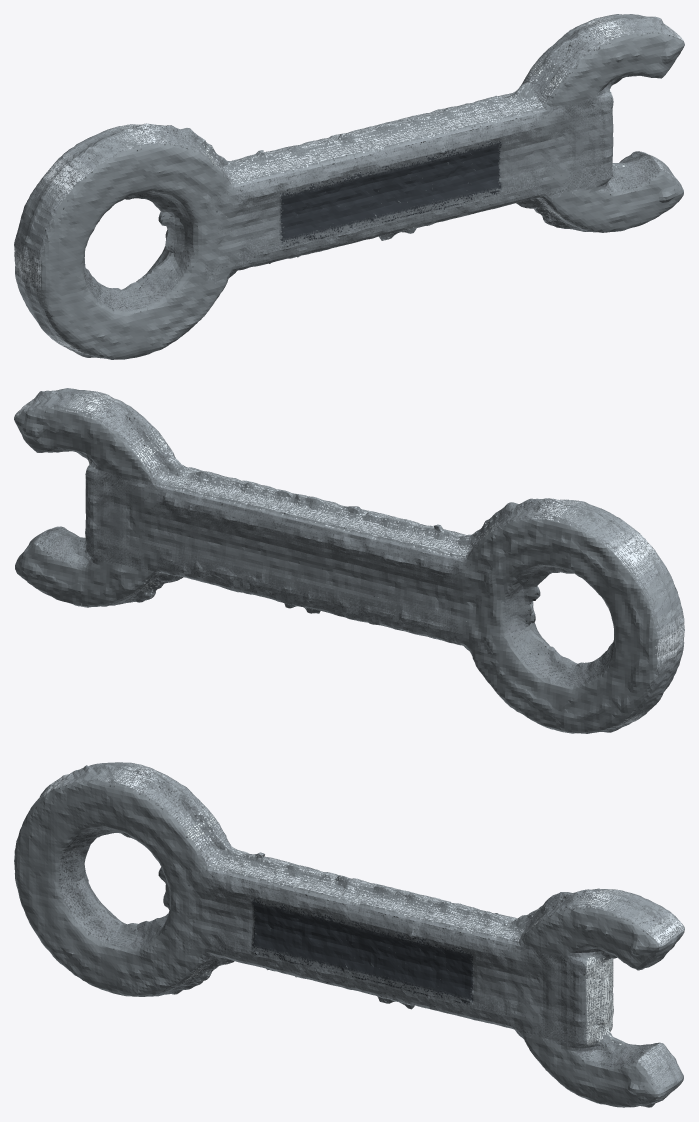
3 views of the same model, one above another, from view 1: azimuth 30°, elevation 25°; view 2: azimuth 150°, elevation 25°; view 3: azimuth 330°, elevation 25° (orthographic).
Bounding box in the file's own units: 0.1674 × 0.0554 × 0.0154.
1 material, 1 textured.
